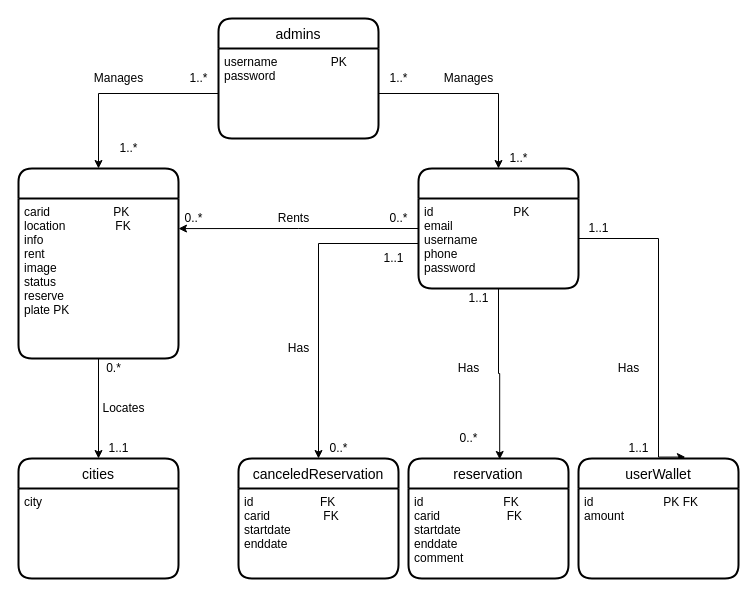
This 756x596 diagram has some shape labels left out. The shapes that lost their labels are listed below. From the top down, each one's box as (x1, y1, x2, y2) in pixels, then its label:
(417, 167, 579, 289): Users
(17, 167, 179, 359): Cars
